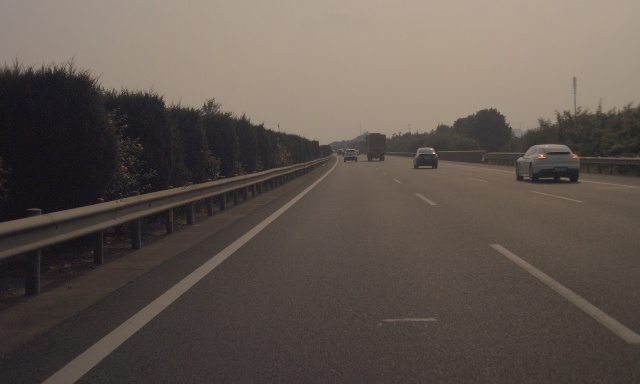car: (515, 144, 580, 181), (413, 147, 438, 168), (343, 149, 357, 162), (342, 149, 351, 157), (337, 149, 343, 155), (353, 150, 359, 156)
truck: (365, 134, 385, 161), (358, 141, 367, 155)
